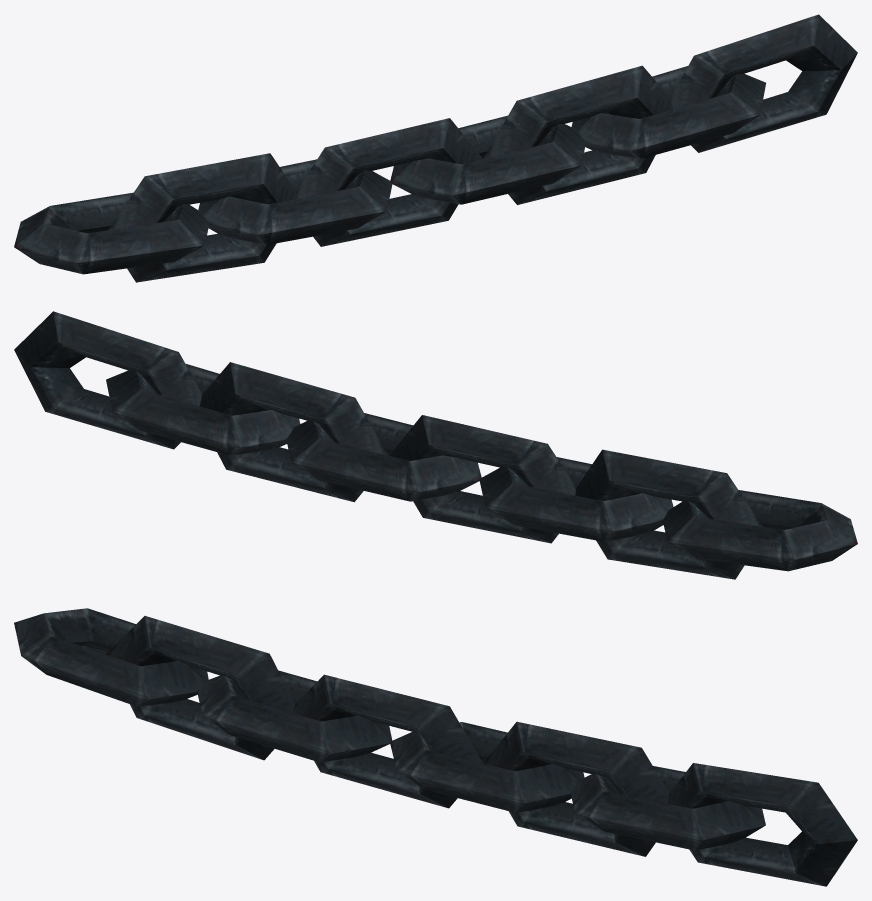
Rendered from 10507_Chain04.FBX.
3 views of the same model, one above another, from view 1: azimuth 30°, elevation 25°; view 2: azimuth 150°, elevation 25°; view 3: azimuth 330°, elevation 25° (orthographic).
Parts seen in each view (by area): view 1: 10507_Chain04; view 2: 10507_Chain04; view 3: 10507_Chain04.
Boxes of the visible parts, bbox=[...] form: 10507_Chain04: bbox=[14, 14, 857, 282]; 10507_Chain04: bbox=[14, 311, 857, 579]; 10507_Chain04: bbox=[14, 608, 857, 886].
Bounding box in the file's own units: 859 × 117 × 103.
